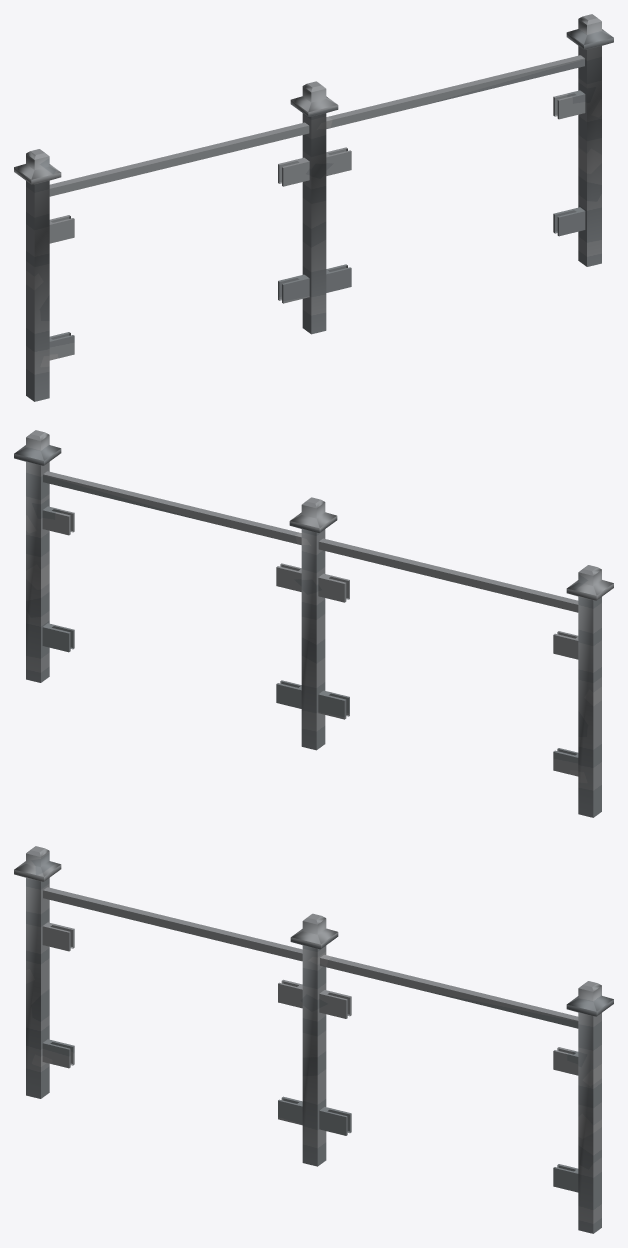
File: FenceUV.FBX
The picture shows the model from 3 angles, top to bottom: view 1: azimuth 30°, elevation 25°; view 2: azimuth 150°, elevation 25°; view 3: azimuth 330°, elevation 25°; orthographic projection.
Parts seen in each view (by area): view 1: Box012; view 2: Box012; view 3: Box012.
Boxes of the visible parts, x1=… form: Box012: x1=14, y1=14, x2=613, y2=401; Box012: x1=14, y1=430, x2=613, y2=817; Box012: x1=14, y1=846, x2=613, y2=1233.
Bounding box in the file's own units: 388 × 156 × 20.
